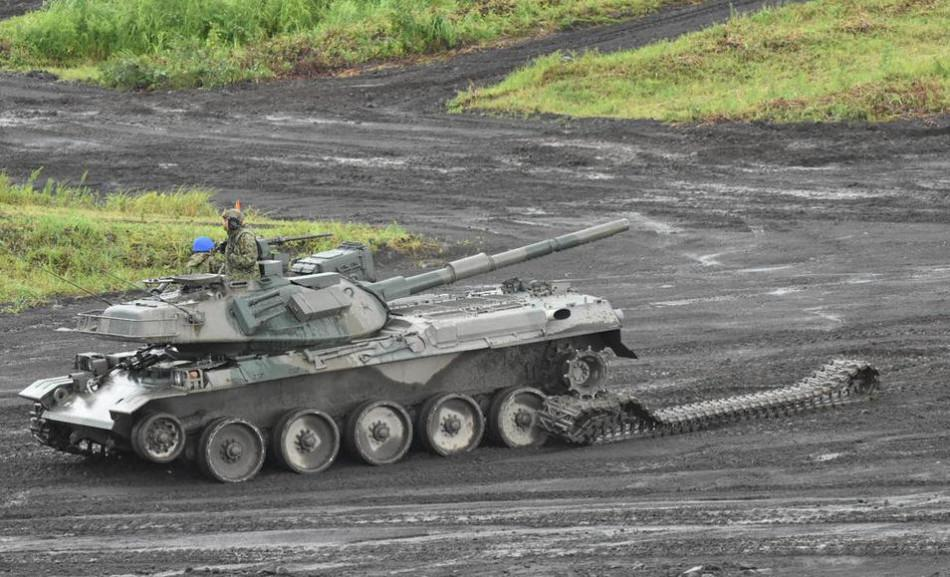tank: (21, 250, 648, 490)
